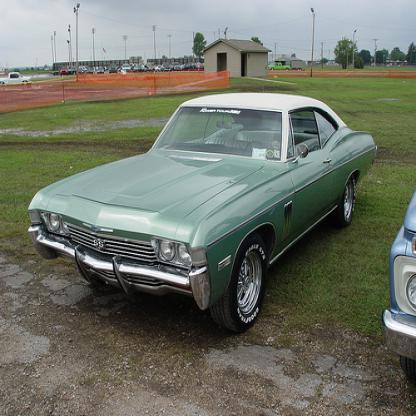car: (26, 89, 375, 333), (384, 190, 416, 386), (1, 72, 32, 89), (267, 62, 292, 73)
